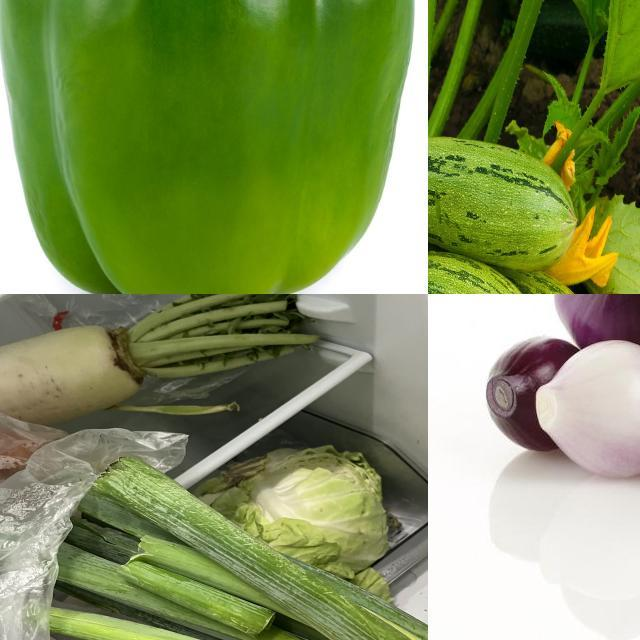bell_pepper: (1, 1, 426, 295)
cabbage: (185, 444, 393, 580)
onion: (38, 454, 429, 640), (537, 326, 640, 487), (484, 338, 584, 459), (551, 295, 640, 361)
zucchini: (429, 129, 616, 260)
